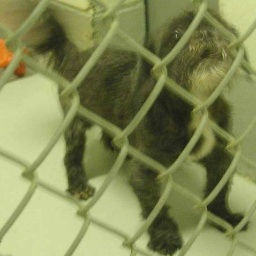dog: (52, 7, 249, 253)
